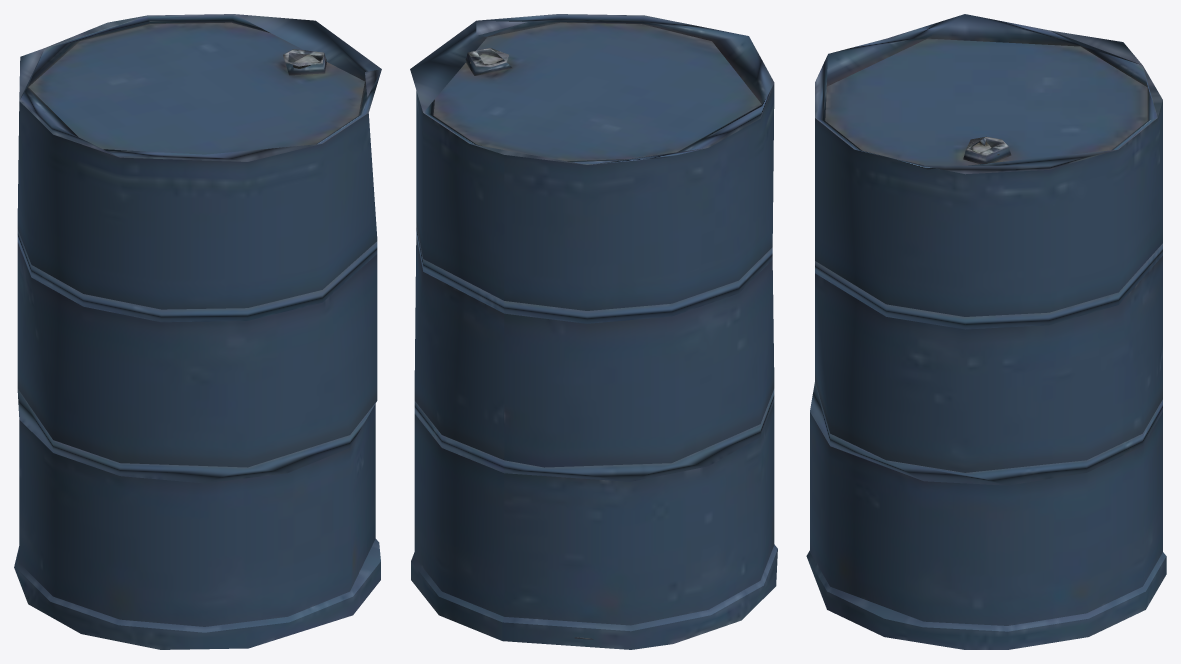
Rendered from barrel_03_lod1.glb.
3 views of the same model, side by side, from view 1: azimuth 30°, elevation 25°; view 2: azimuth 150°, elevation 25°; view 3: azimuth 270°, elevation 25° (orthographic). The views are drawn at different scales.
Visible parts, largest first — view 1: barrel_03; view 2: barrel_03; view 3: barrel_03.
Boxes of the visible parts, left/top/right/bottom form: barrel_03: left=14, top=14, right=381, bottom=649; barrel_03: left=410, top=14, right=777, bottom=649; barrel_03: left=806, top=14, right=1166, bottom=649.
Size of the model in its own units: 0.6191 by 0.9276 by 0.6237.
1 material, 1 textured.
